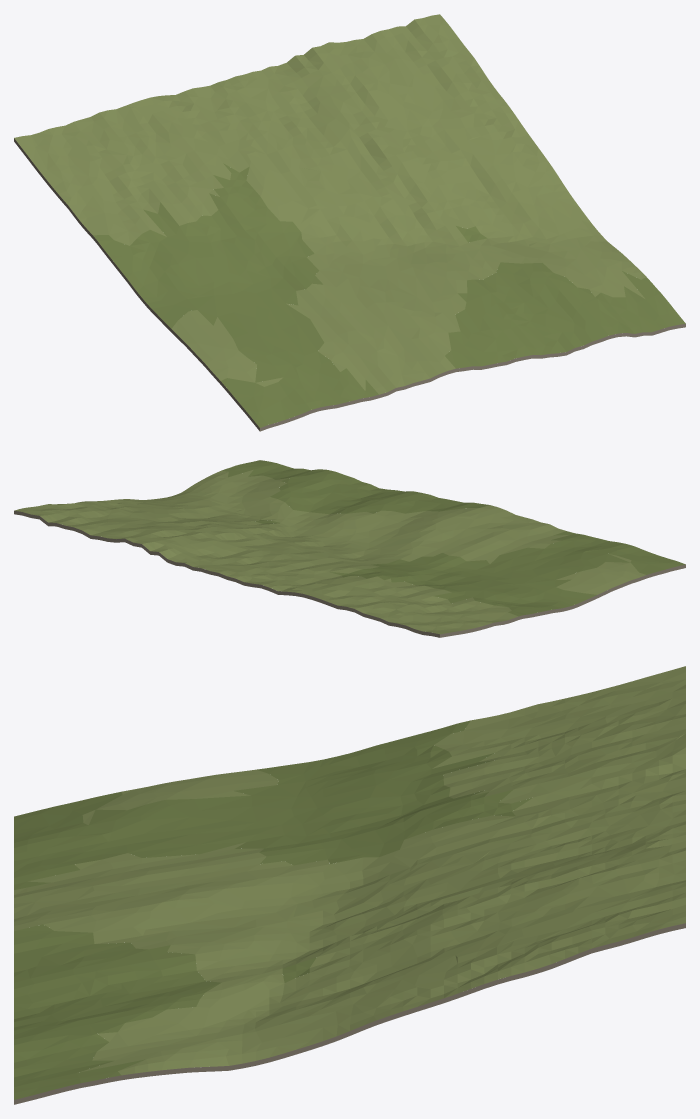
The model's file is parca_+5_-8-uzak.glb.
3 renders of one model, top to bottom at view 1: azimuth 30°, elevation 25°; view 2: azimuth 150°, elevation 25°; view 3: azimuth 270°, elevation 25°, orthographic. The views are drawn at different scales.
Visible parts, largest first — view 1: parca_+5_-8_arazi_uzak; view 2: parca_+5_-8_arazi_uzak; view 3: parca_+5_-8_arazi_uzak.
Boxes of the visible parts, box(x1,y1,x2,y2) form: parca_+5_-8_arazi_uzak: box(14, 14, 685, 431); parca_+5_-8_arazi_uzak: box(14, 460, 685, 637); parca_+5_-8_arazi_uzak: box(14, 666, 685, 1104).
Size of the model in its own units: 1000 by 302 by 1000.
